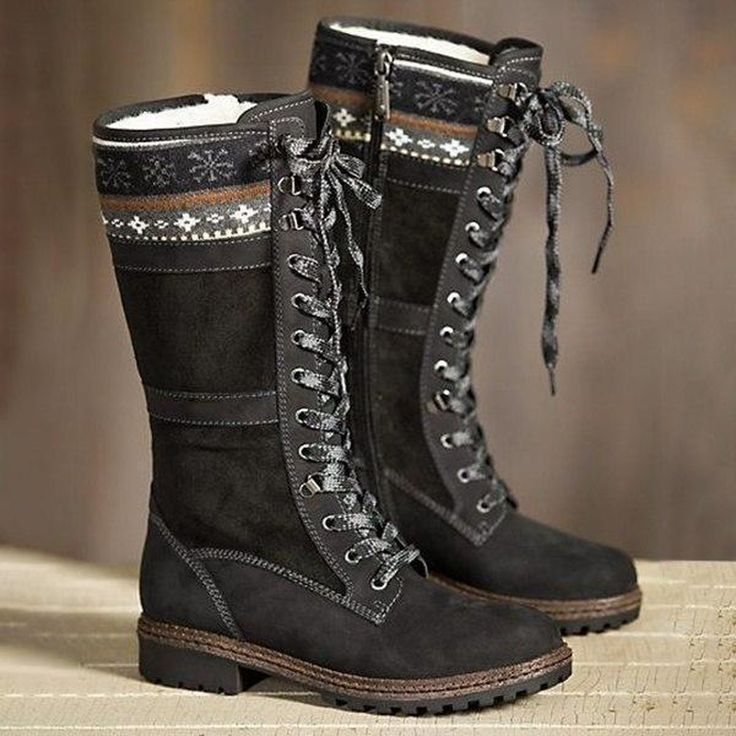gamuza: (90, 16, 640, 680)
